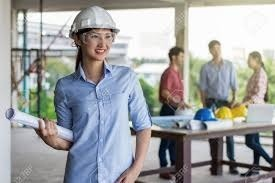helmet: (68, 4, 122, 40)
person with partial safety: (40, 3, 150, 181)
person without safety: (198, 40, 237, 107), (159, 46, 192, 117), (245, 51, 272, 107)
